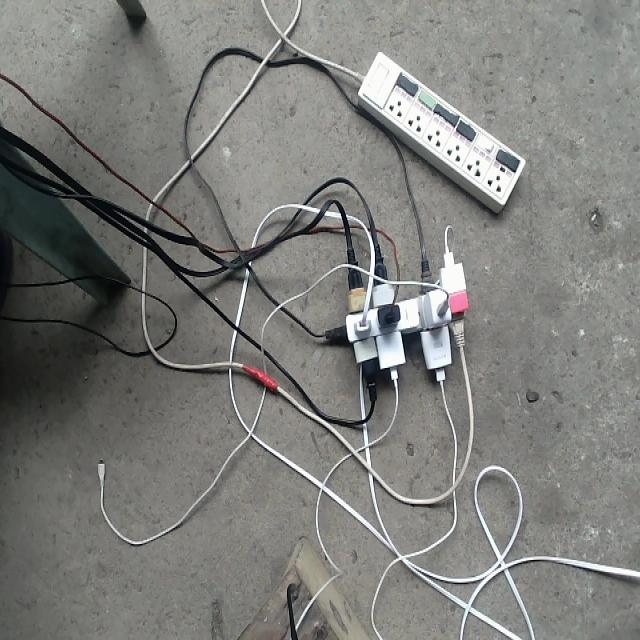-: (336, 260, 469, 371)
